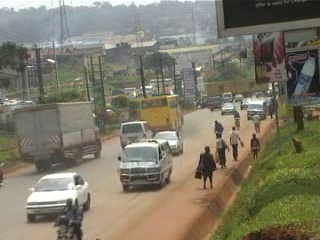Car: (23, 169, 92, 227), (150, 128, 185, 154), (218, 100, 236, 116), (239, 96, 251, 108), (234, 94, 246, 102)
Motorcycle: (49, 200, 87, 239), (0, 158, 7, 190)
